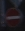No entry: (5, 5, 20, 25)
